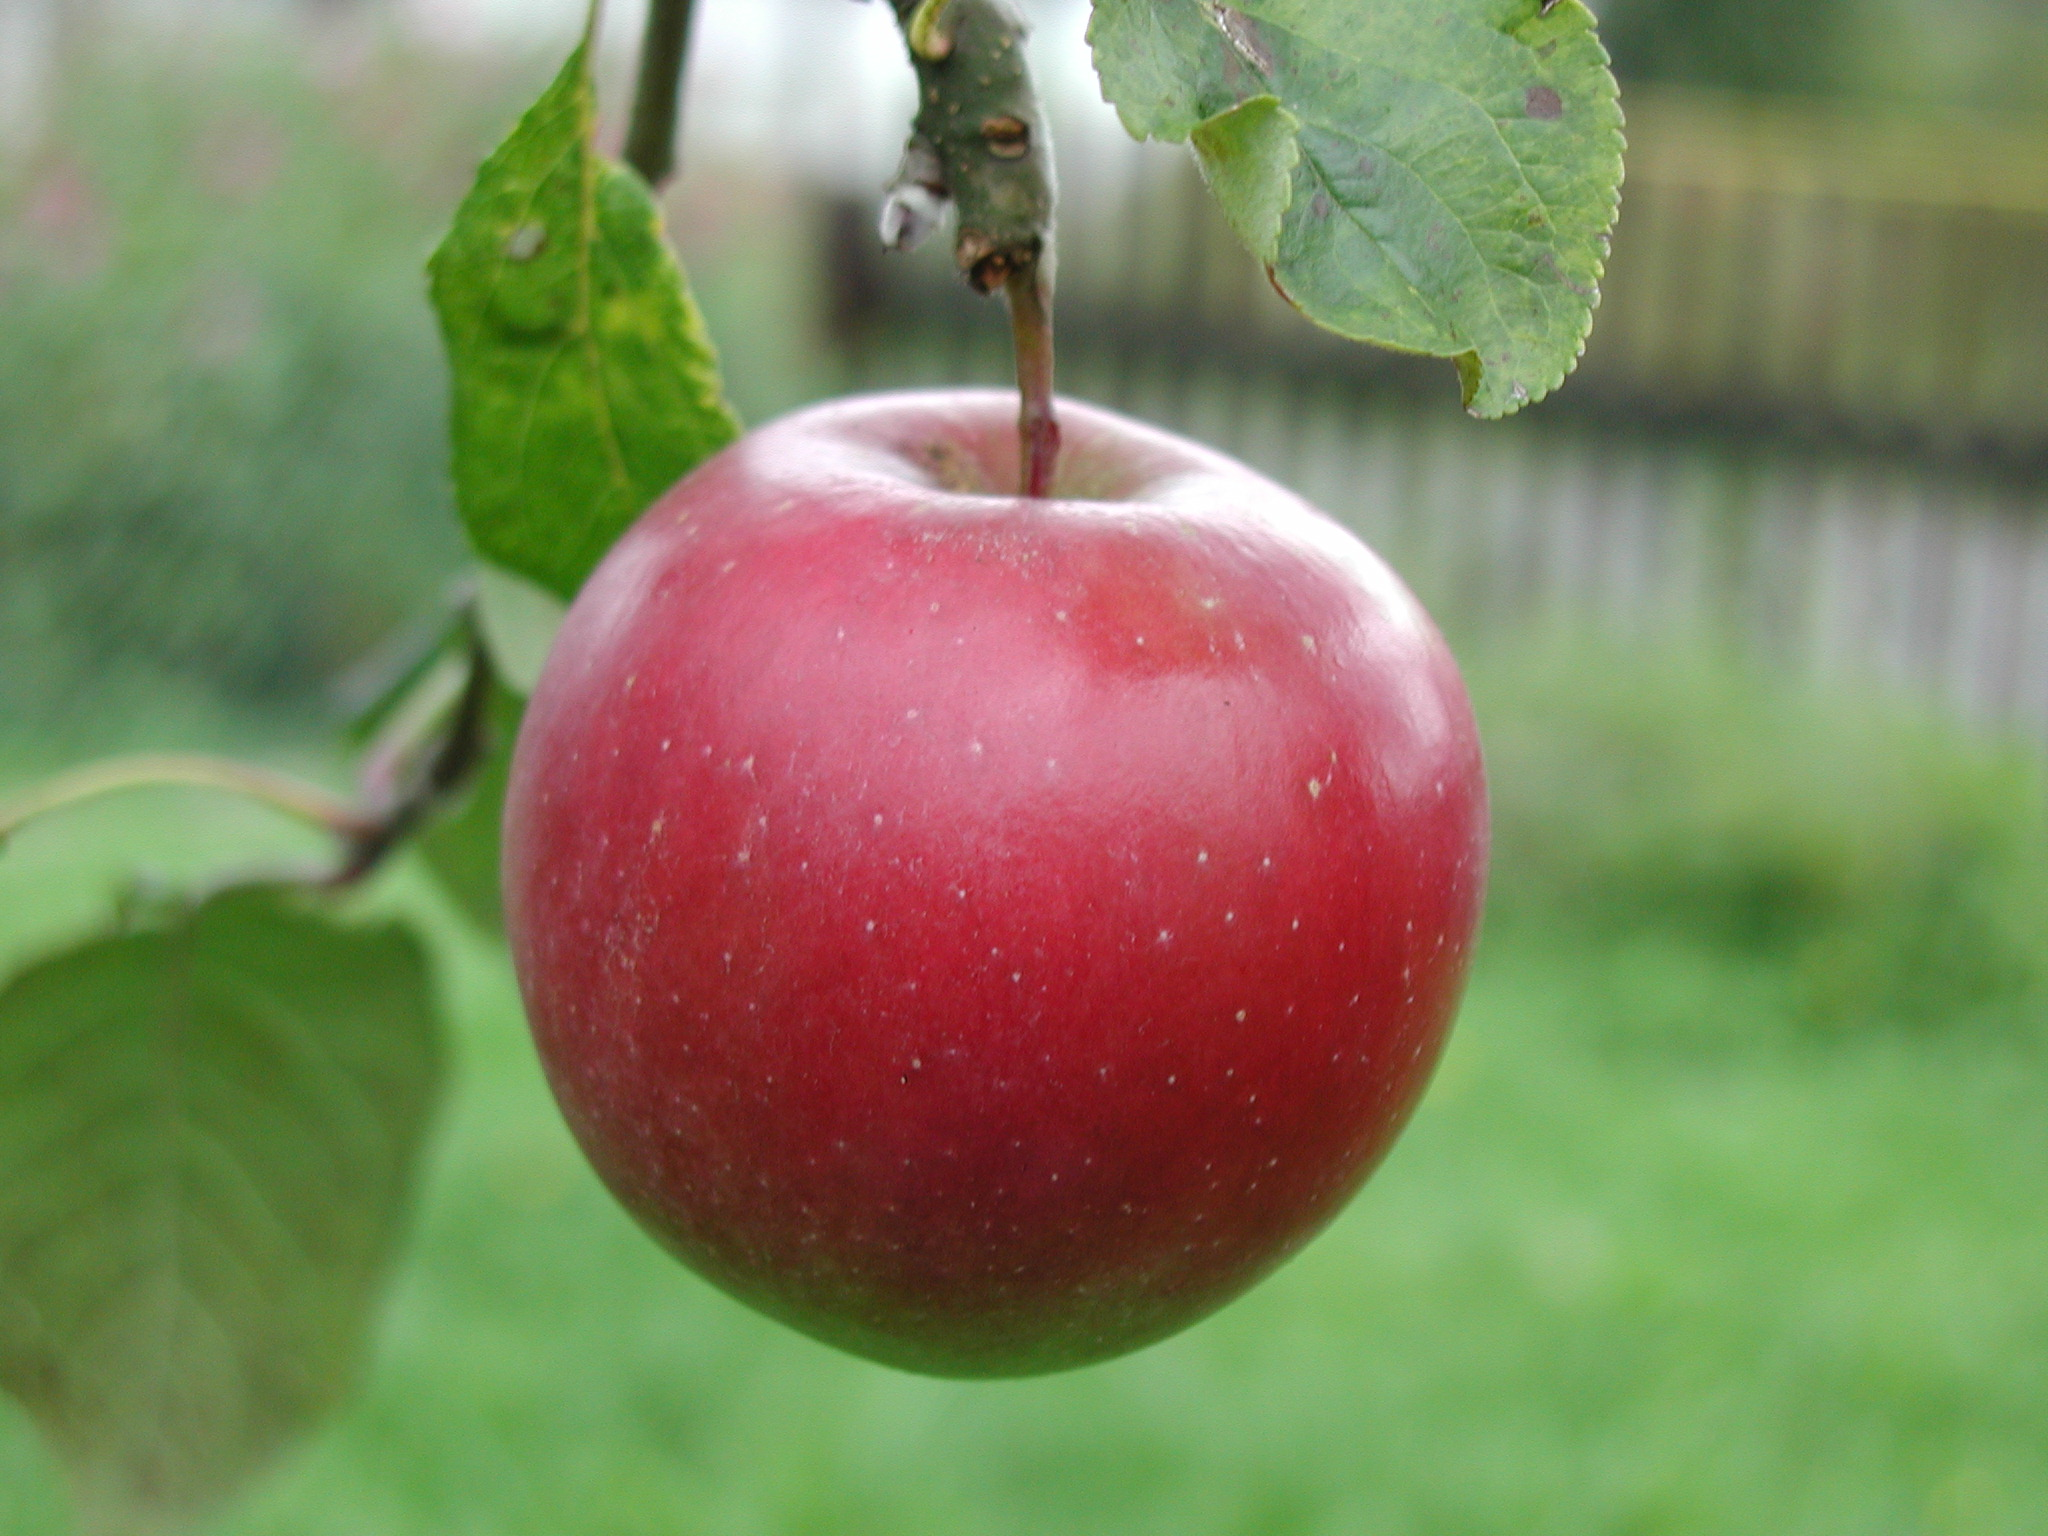apple: (489, 218, 1492, 1394)
